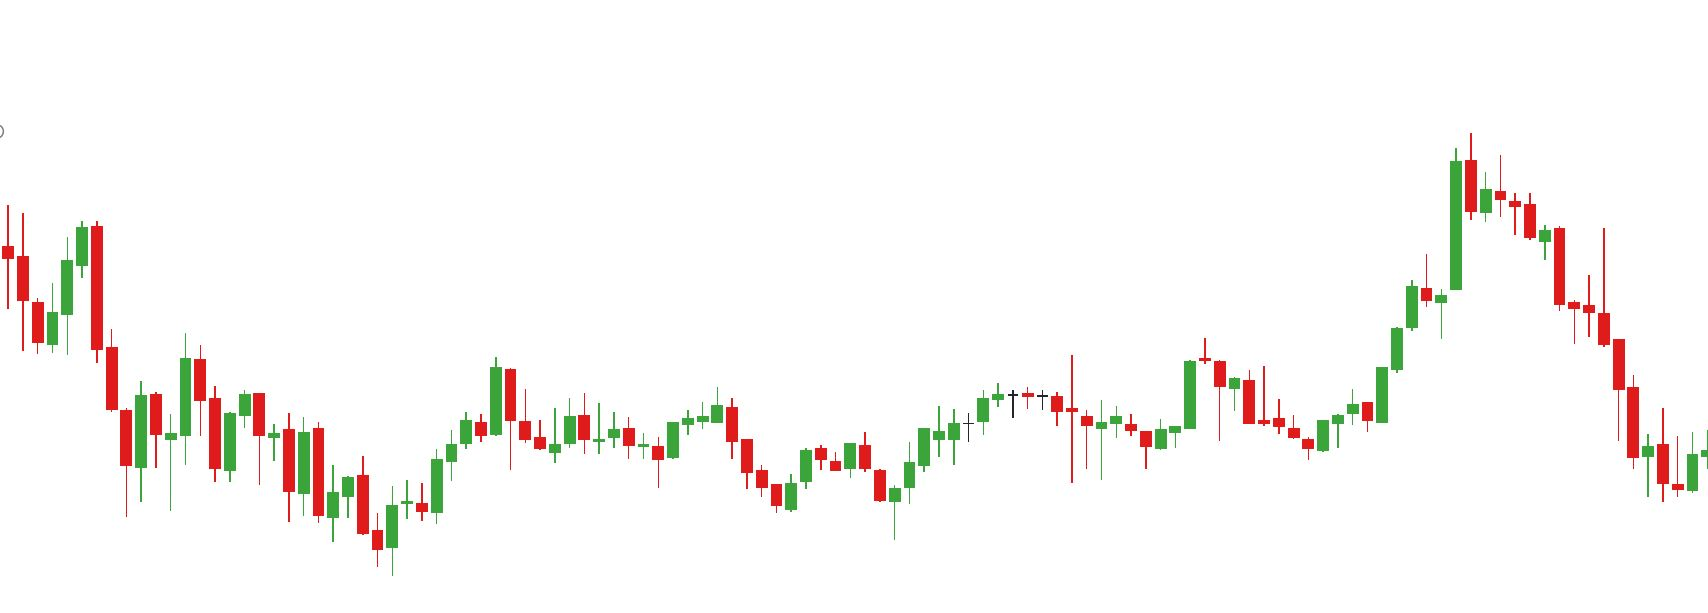buy: (774, 457, 901, 540)
